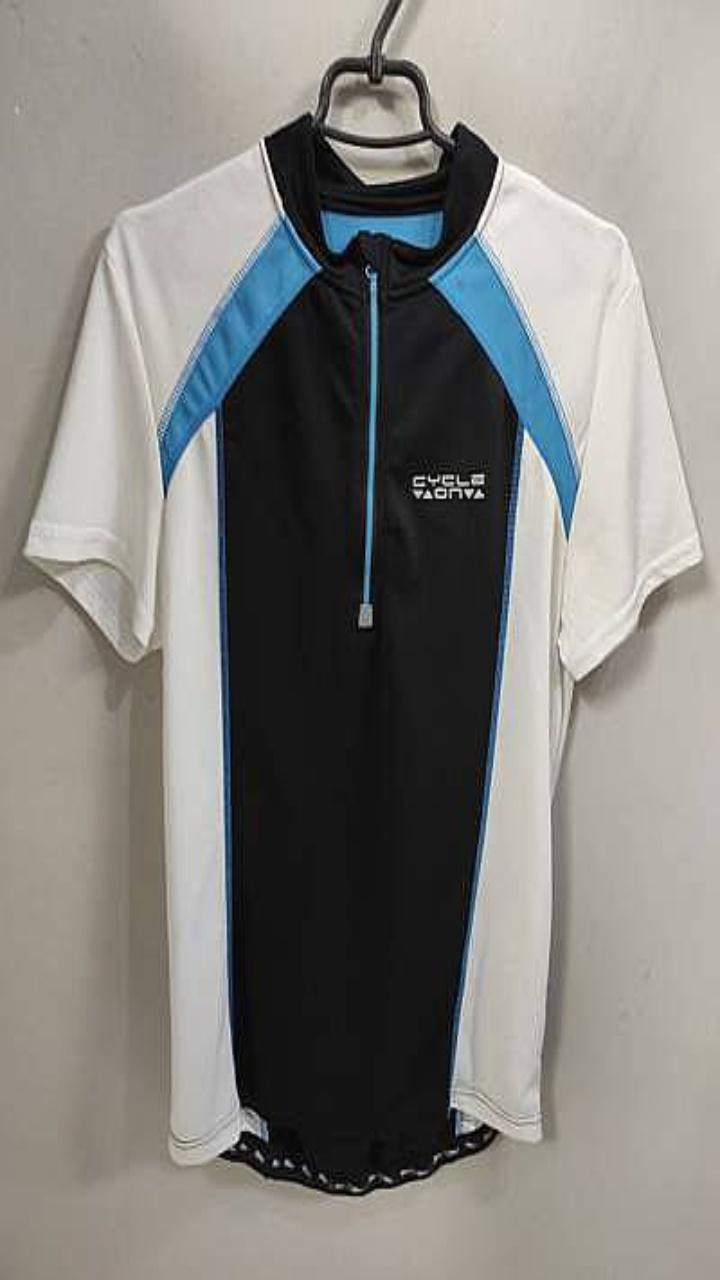T-Shirt: (24, 113, 702, 1193)
